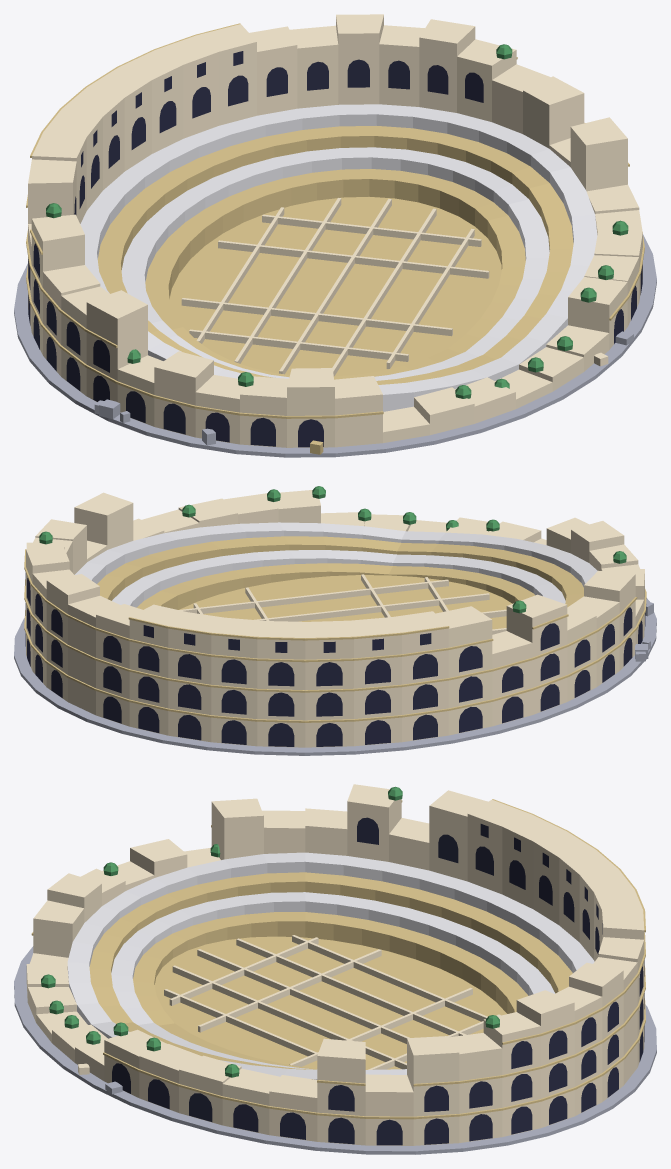
Rendered from colosseum-5x5.glb.
The picture shows the model from 3 angles, top to bottom: view 1: azimuth 30°, elevation 25°; view 2: azimuth 150°, elevation 25°; view 3: azimuth 270°, elevation 25°; orthographic projection. The views are drawn at different scales.
Visible parts, largest first — view 1: colosseum-5x5; view 2: colosseum-5x5; view 3: colosseum-5x5.
Boxes of the visible parts, <box> form: colosseum-5x5: <box>14,14,656,457</box>; colosseum-5x5: <box>14,486,656,755</box>; colosseum-5x5: <box>14,784,656,1154</box>.
Size of the model in its own units: 4.98 by 1.04 by 4.98.
1 material, 1 textured.
